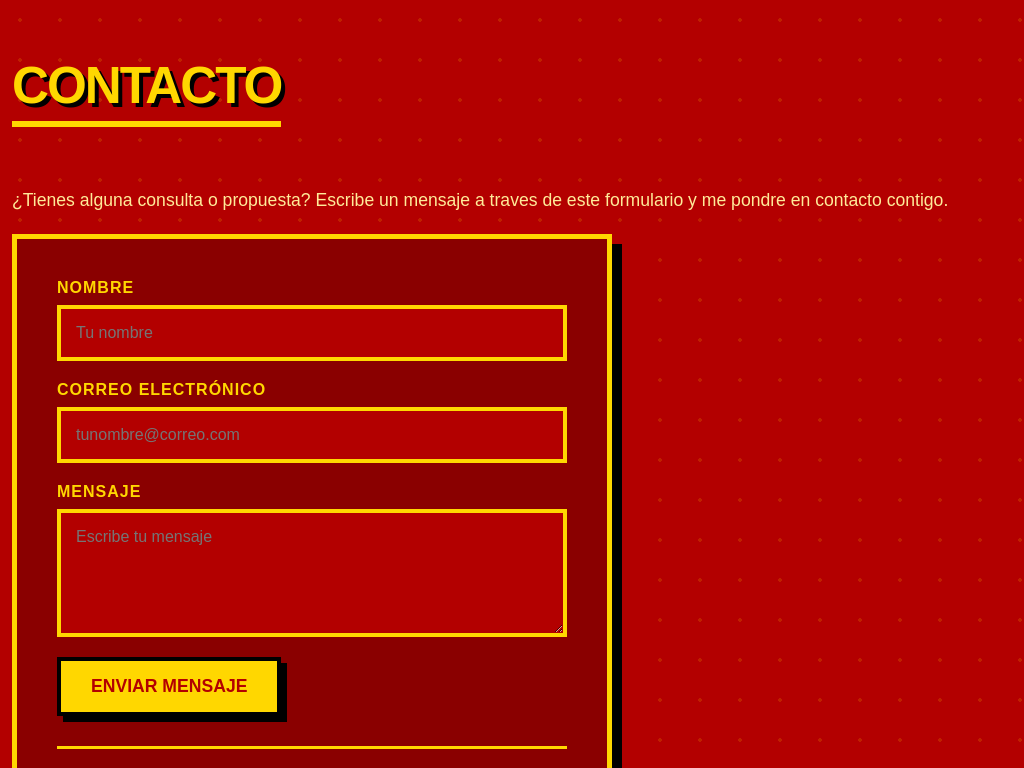
Test: Componente Contacto › debe mostrar un mensaje de éxito cuando los datos son válidos
Type "Diego Valle" into the field labelled "Nombre".
click(312, 333); type("Diego Valle")  # box [57, 305, 567, 361]
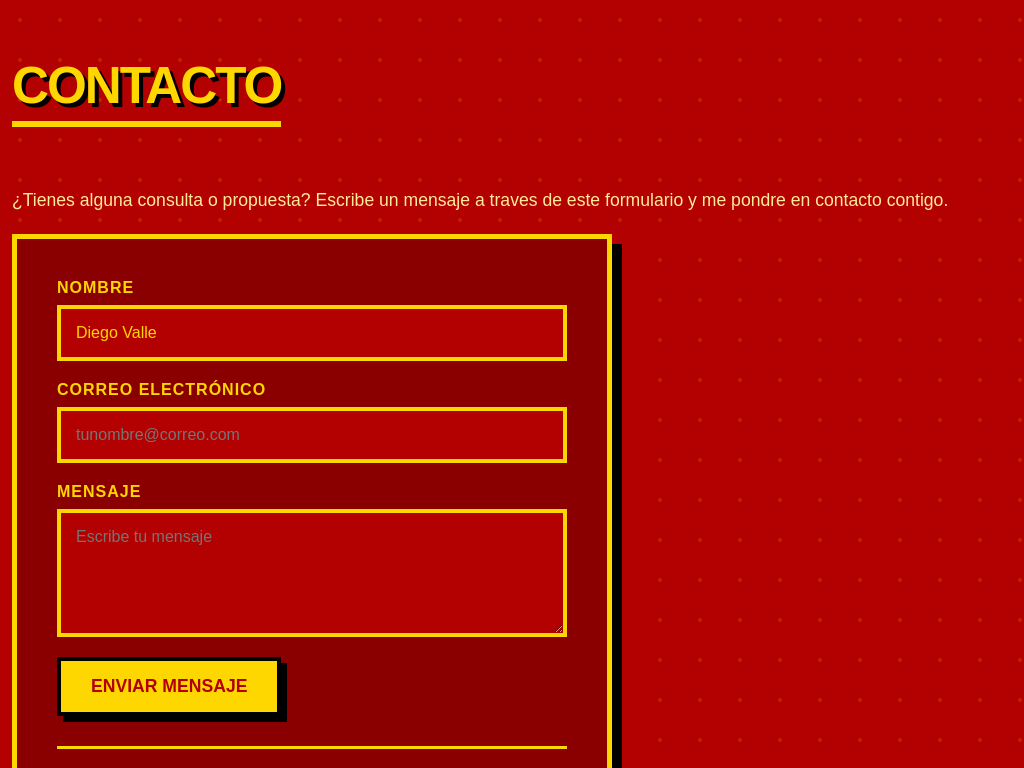
Type "diegoandres@correo.com" into the field labelled "Correo electrónico".
click(312, 435); type("diegoandres@correo.com")  # box [57, 407, 567, 463]
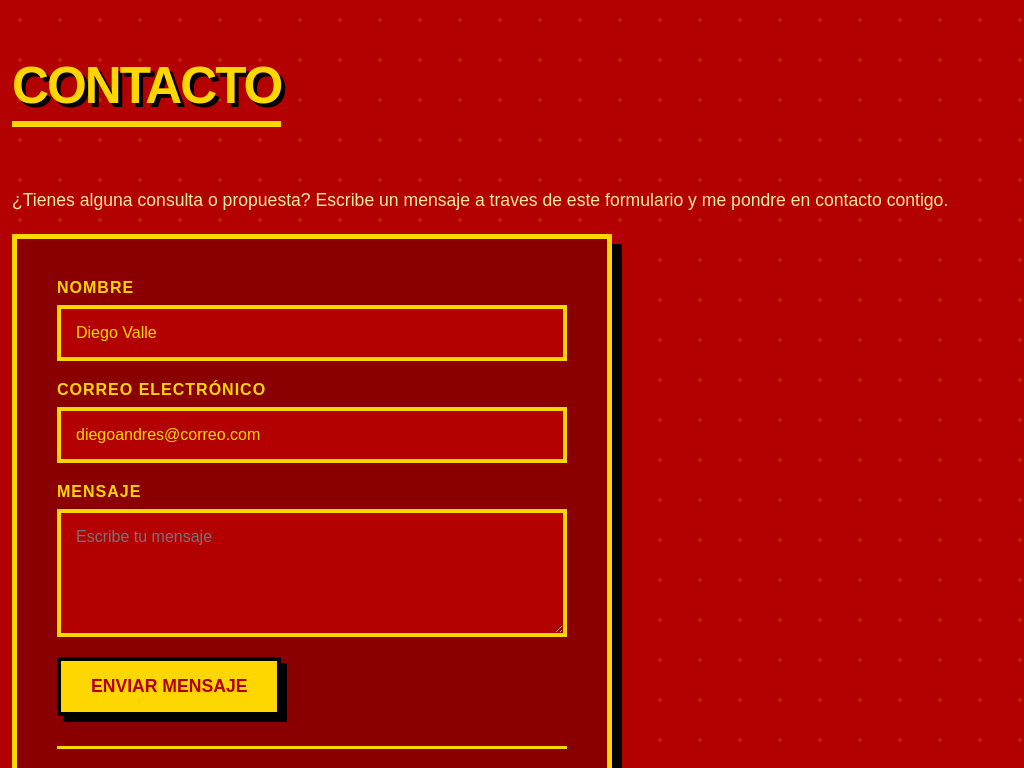
Type "Hola, este es un mensaje de prueba." into the text box labelled "Mensaje".
click(312, 573); type("Hola, este es un mensaje de prueba.")  # box [57, 509, 567, 637]
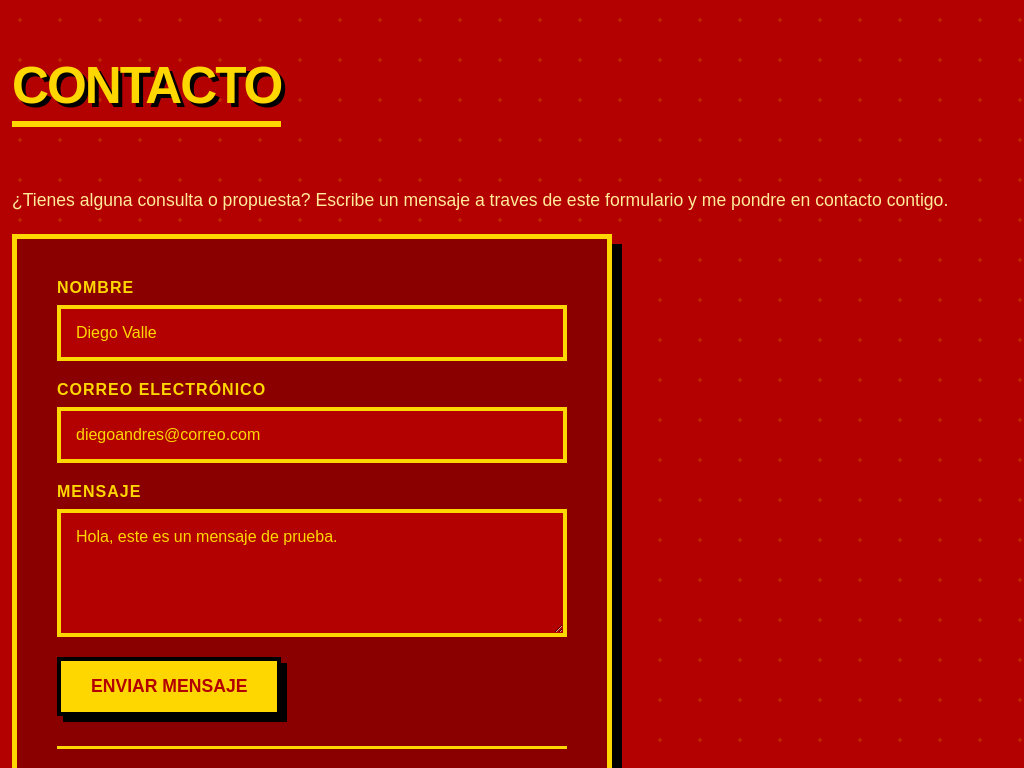
Click the button "Enviar mensaje".
click(169, 686)  # box [57, 657, 281, 716]
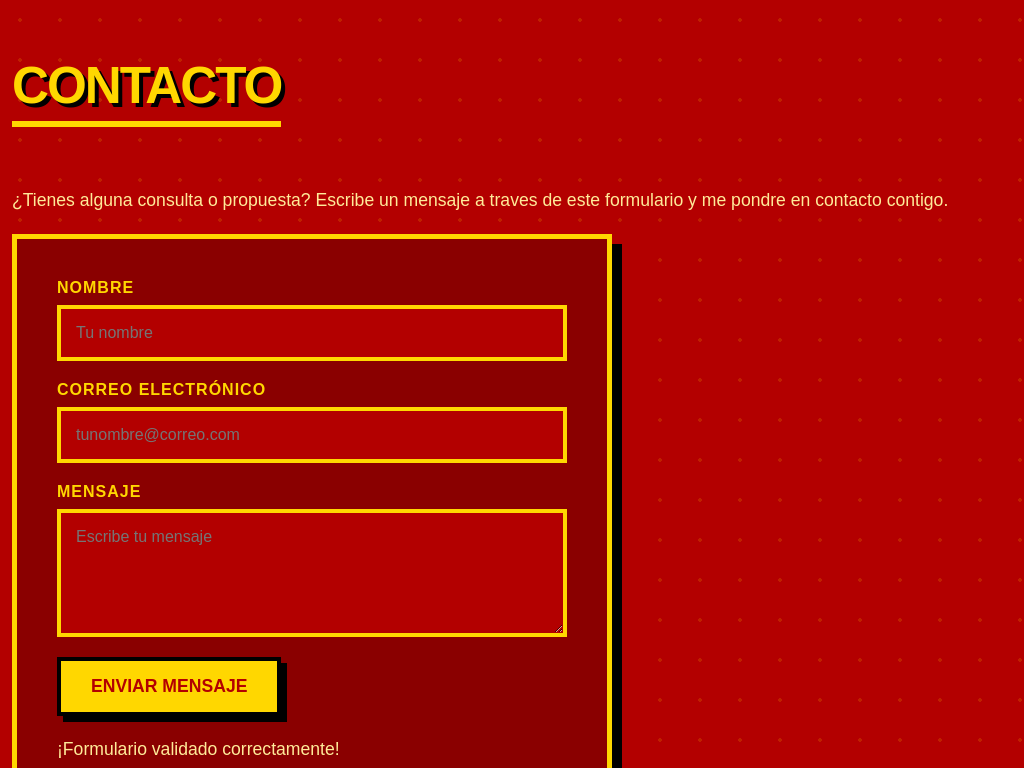
expect the message reads "¡Formulario validado correctamente!": met, box [57, 739, 340, 759]
expect the field labelled "Nombre" is empty: met, box [57, 305, 567, 361]
expect the field labelled "Correo electrónico" is empty: met, box [57, 407, 567, 463]
